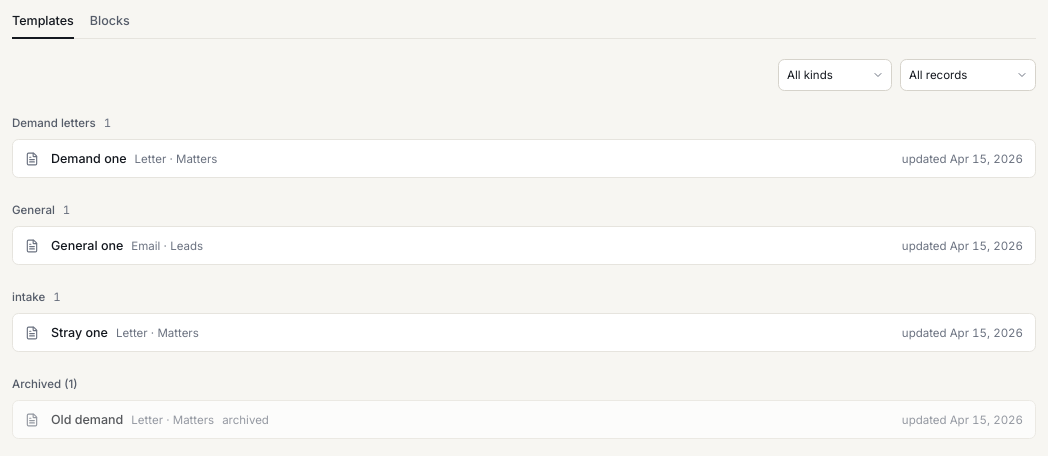
Scenario: TemplateLibrary › marks a block whose fields don't fit its scope
Click the tab "Blocks" at (110, 26), box 90,12 -> 130,39
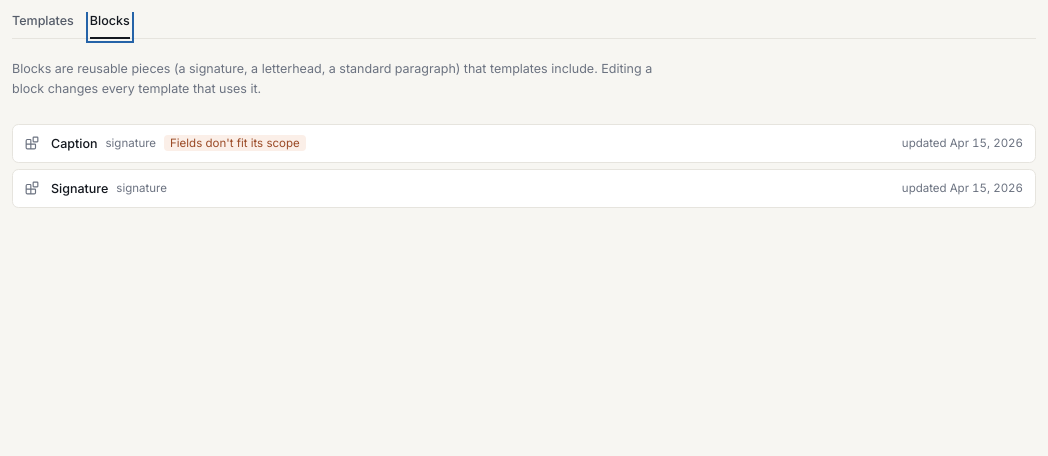
Now the text "Fields don't fit its scope" is shown once, box 164,135 -> 306,151
